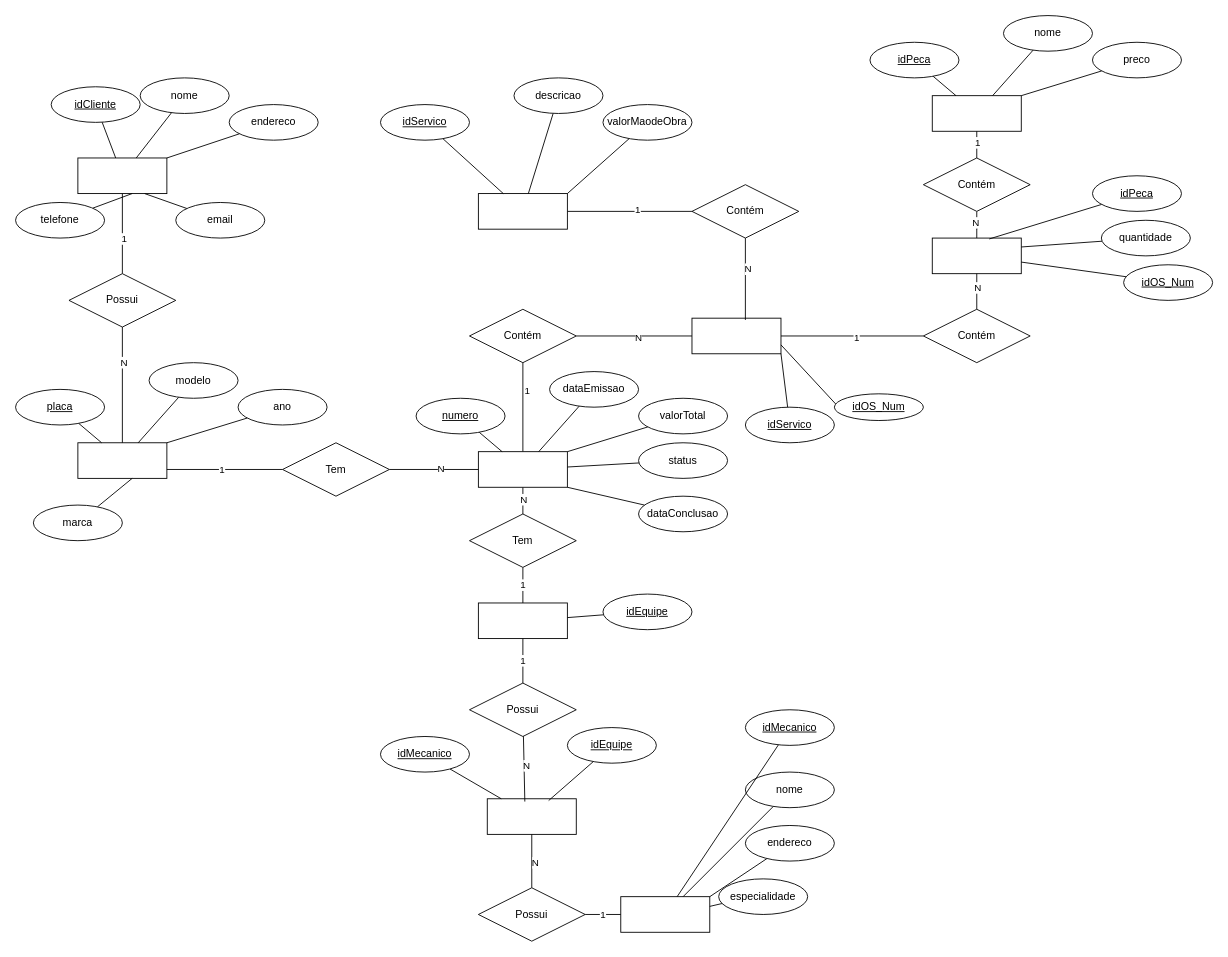
Image size: 1228x957. Some labels were removed from this diagram. The box of each missing label's shape, as (x1, y1, x2, y2) in pixels:
Cliente: (77, 157, 167, 194)
Equipe: (477, 602, 567, 639)
Mecanico: (620, 896, 710, 932)
Mecanico_Equipe: (486, 798, 576, 834)
OrdemServico: (477, 451, 567, 487)
OS_Peca: (931, 237, 1021, 274)
OS_Servico: (691, 317, 781, 354)
Peca: (931, 95, 1021, 131)
Servico: (477, 193, 567, 229)
Veiculo: (77, 442, 167, 478)
